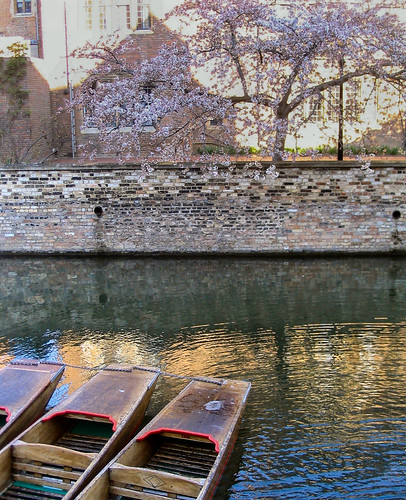boat: (127, 363, 278, 500), (1, 363, 151, 500)
river: (19, 259, 406, 500)
tree: (110, 1, 406, 165)
